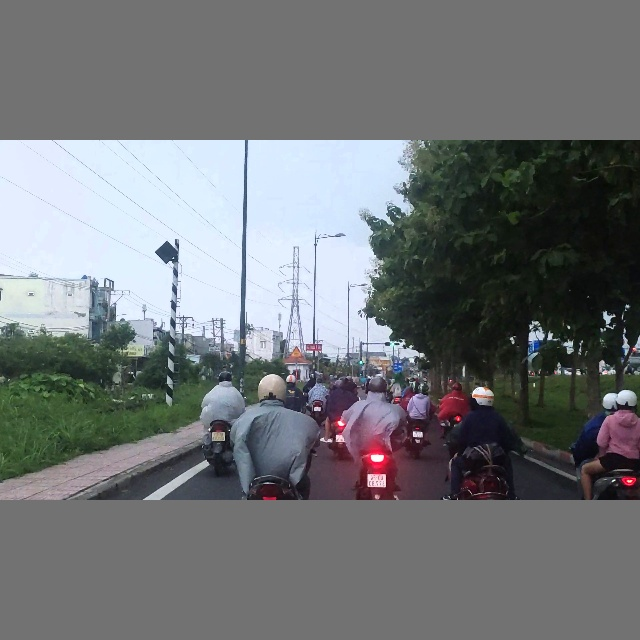W.210: (289, 346, 303, 357)
